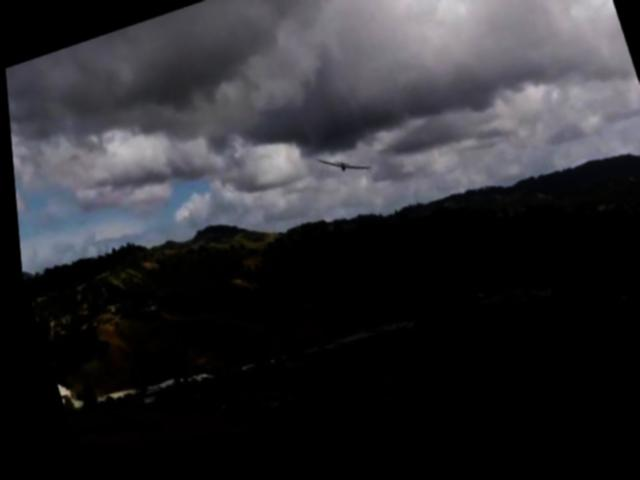iha: (305, 137, 367, 194)
